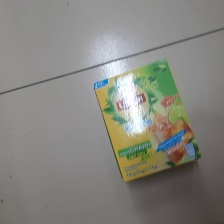LipTon: (93, 58, 203, 184)
